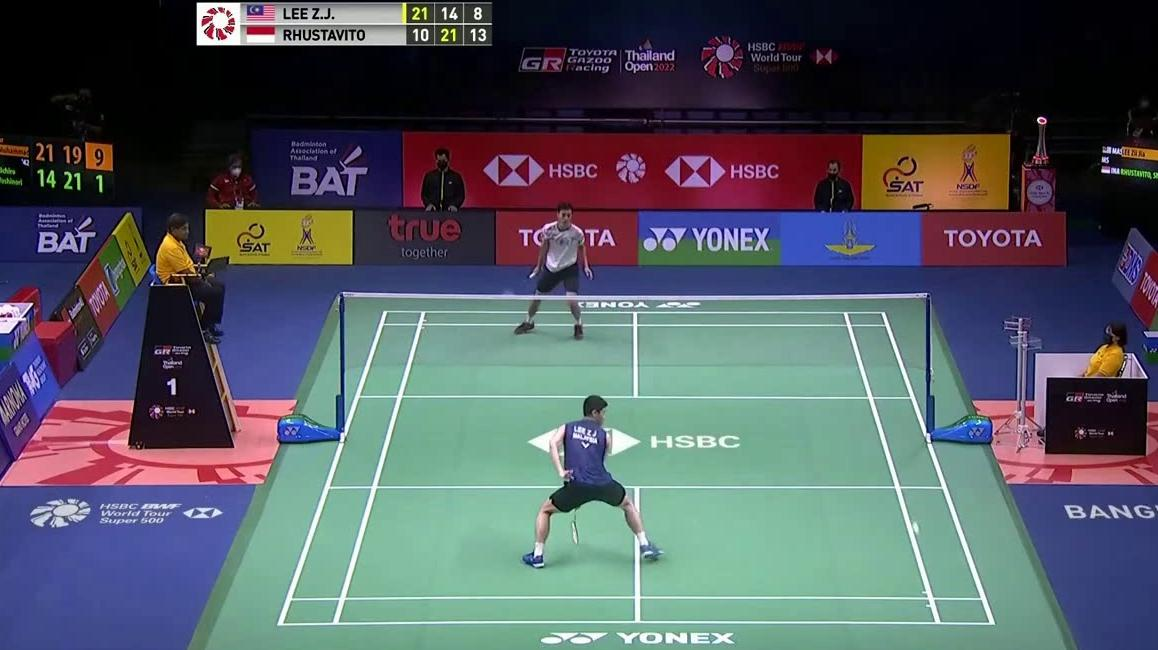racket: (501, 271, 536, 302), (569, 507, 583, 547)
shuttle: (912, 521, 920, 534)
